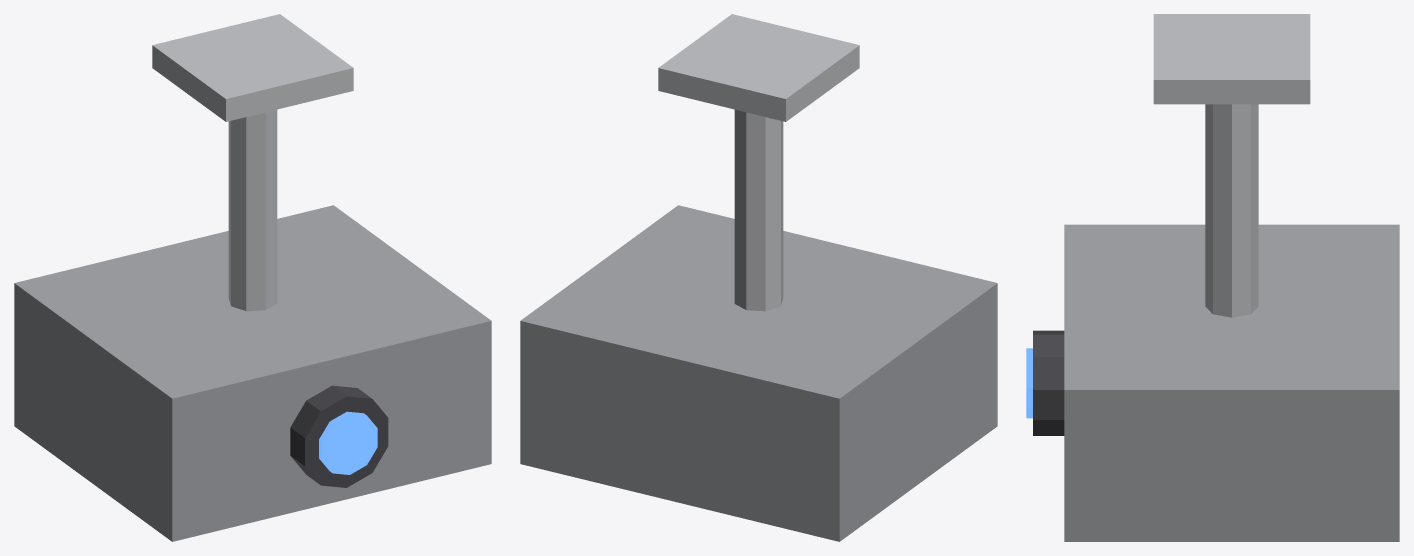
Rendered from projector_ceiling.glb.
3 renders of one model, left to right at view 1: azimuth 30°, elevation 25°; view 2: azimuth 150°, elevation 25°; view 3: azimuth 270°, elevation 25°, orthographic. The views are drawn at different scales.
Parts seen in each view (by area): view 1: Projector Ceiling; view 2: Projector Ceiling; view 3: Projector Ceiling.
Part boxes in pixels (x1,y1,x2,y2): Projector Ceiling: (14,14,491,541); Projector Ceiling: (520,14,997,541); Projector Ceiling: (1026,14,1399,541).
Size of the model in its own units: 0.175 by 0.208 by 0.167.
